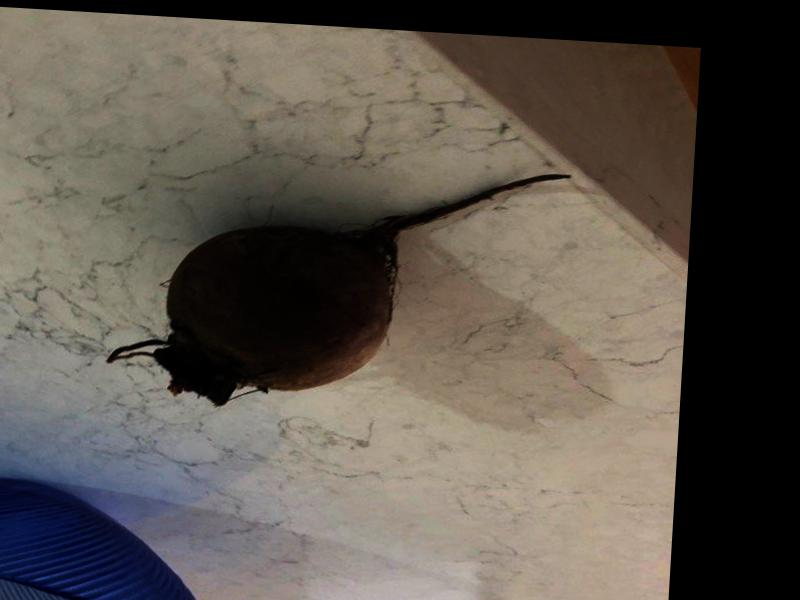Beet: (107, 146, 568, 423)
